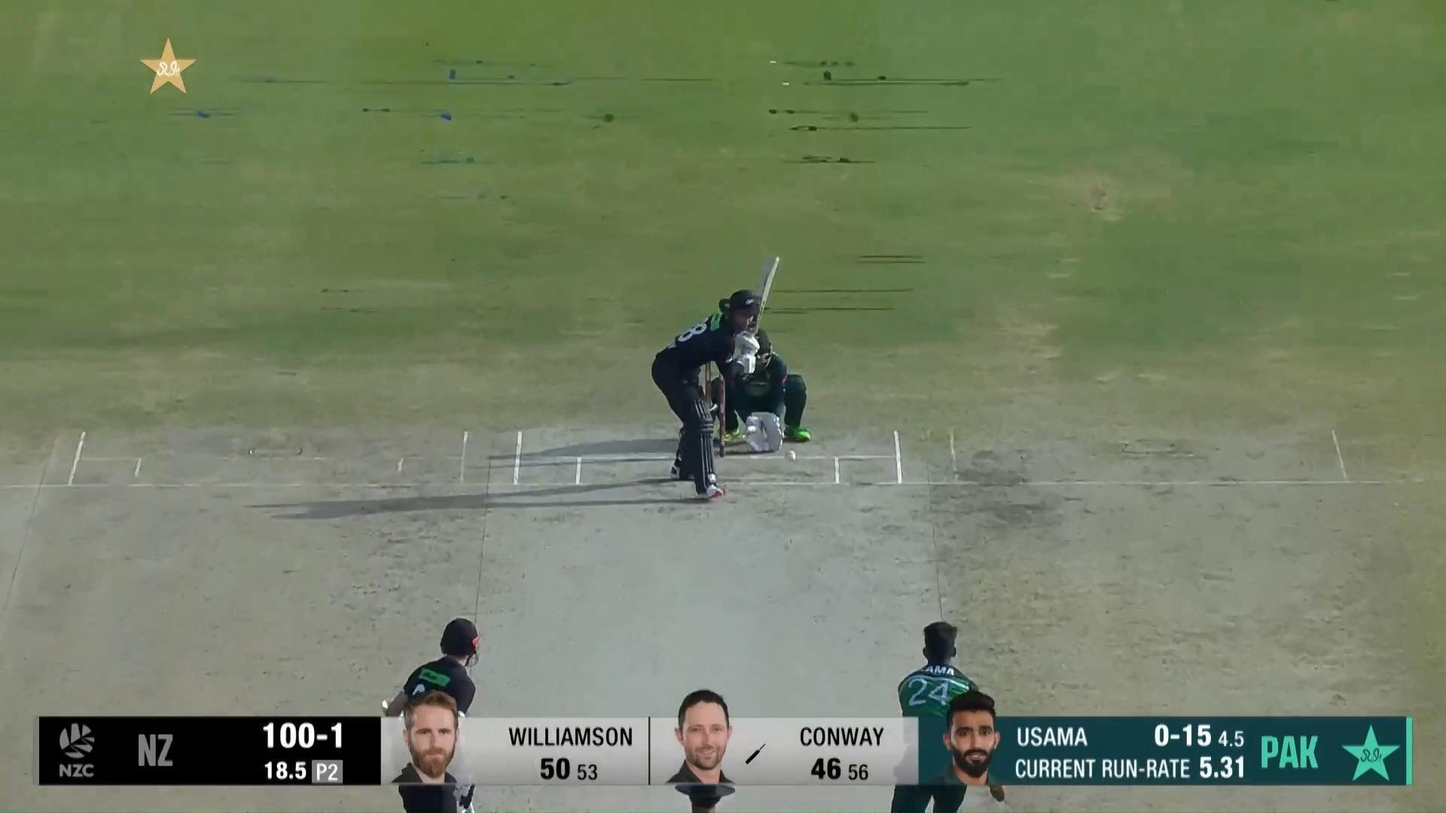BM 1: (651, 254, 780, 499)
BO: (888, 619, 1008, 813)
